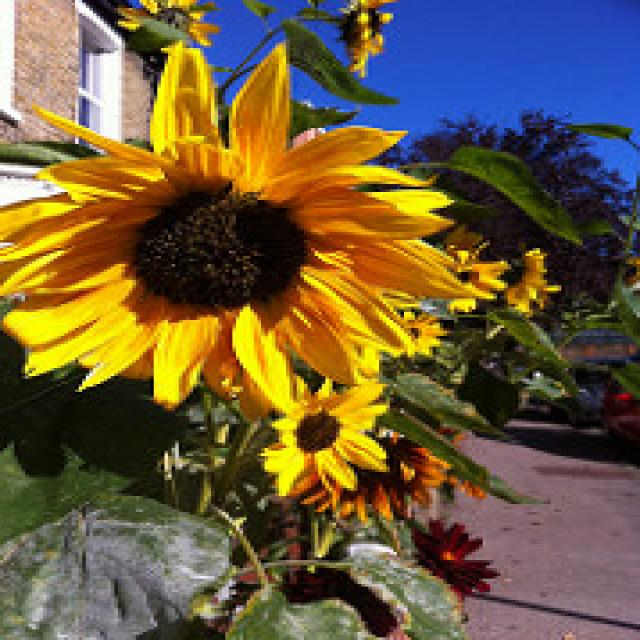sunflower: (0, 41, 465, 404), (256, 372, 409, 492), (314, 3, 426, 77), (498, 239, 566, 321)
